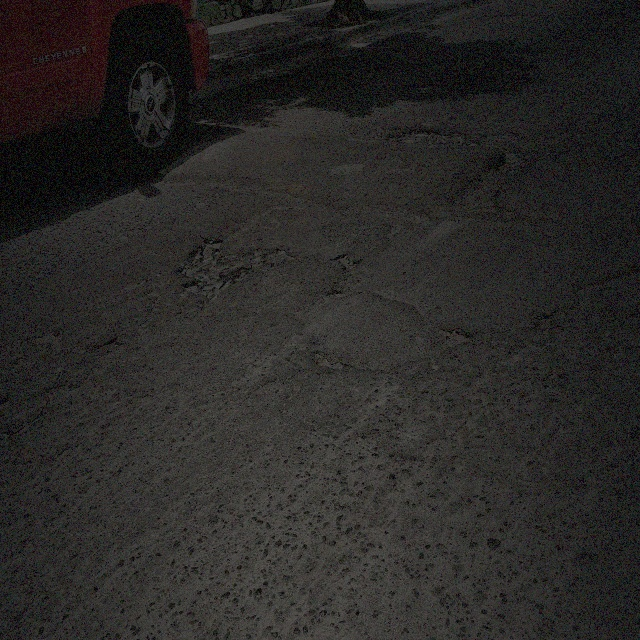pothole: (180, 229, 242, 299), (575, 264, 638, 313), (388, 124, 481, 148), (491, 144, 542, 178), (259, 238, 296, 274), (310, 346, 347, 375), (34, 327, 64, 359), (444, 324, 472, 348), (332, 252, 360, 274), (533, 309, 555, 331), (331, 286, 348, 302)
